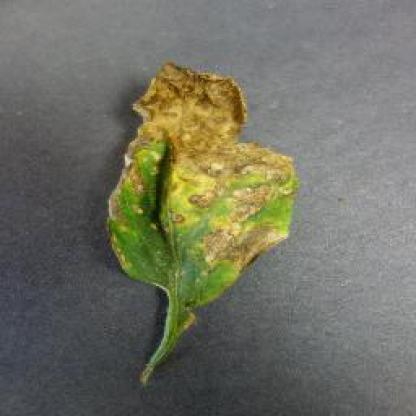bad leaf: (115, 62, 299, 365)
